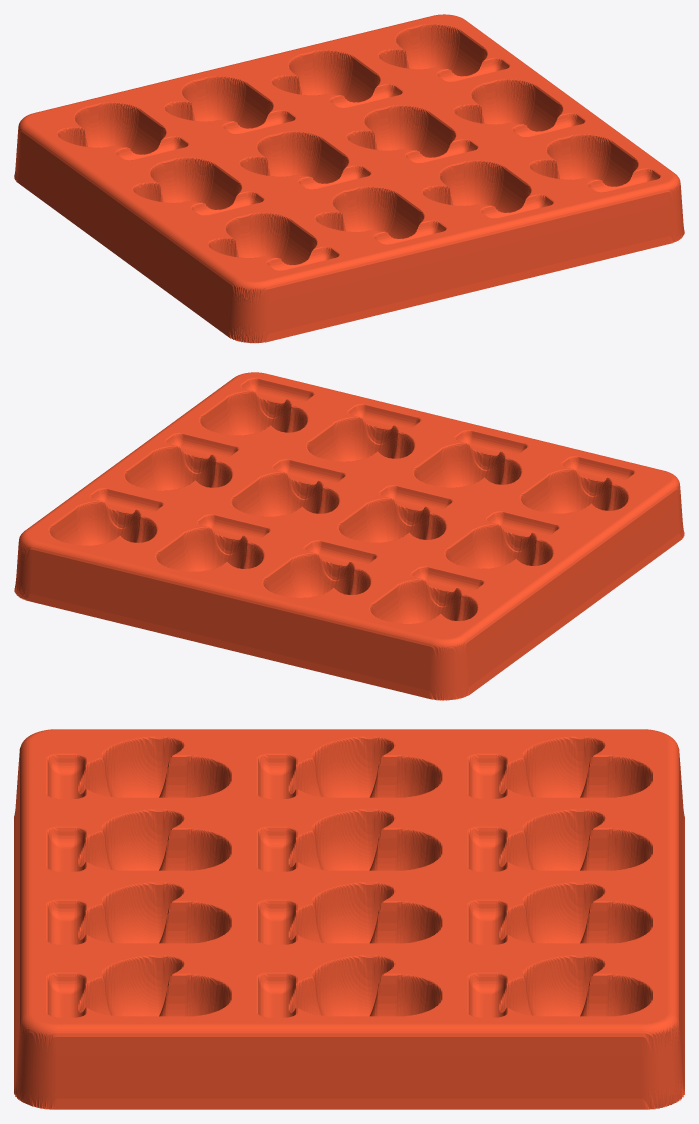
Rendered from mold.glb.
3 renders of one model, top to bottom at view 1: azimuth 30°, elevation 25°; view 2: azimuth 150°, elevation 25°; view 3: azimuth 270°, elevation 25°, orthographic. The views are drawn at different scales.
Parts seen in each view (by area): view 1: geometry_0; view 2: geometry_0; view 3: geometry_0.
Boxes of the visible parts, box(x1,y1,x2,y2) form: geometry_0: box(14, 14, 684, 343); geometry_0: box(14, 372, 684, 700); geometry_0: box(14, 729, 684, 1109).
Size of the model in its own units: 0.1532 by 0.0182 by 0.141.
